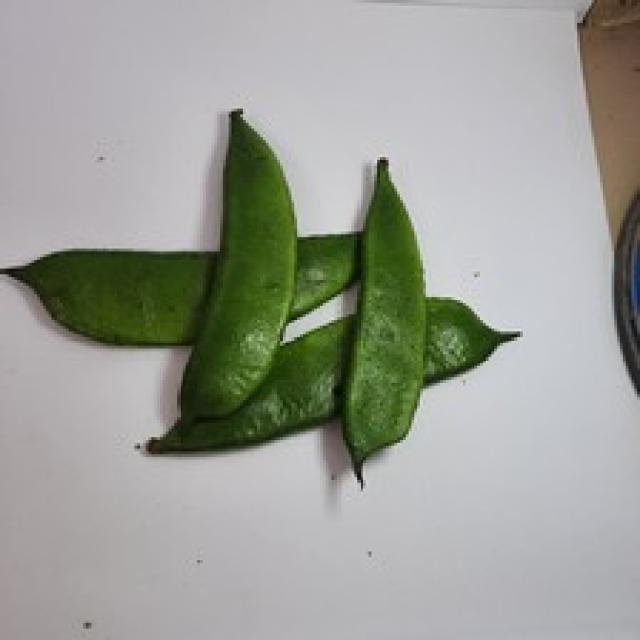Bean: (32, 188, 454, 470), (176, 110, 292, 410), (341, 144, 429, 488)
